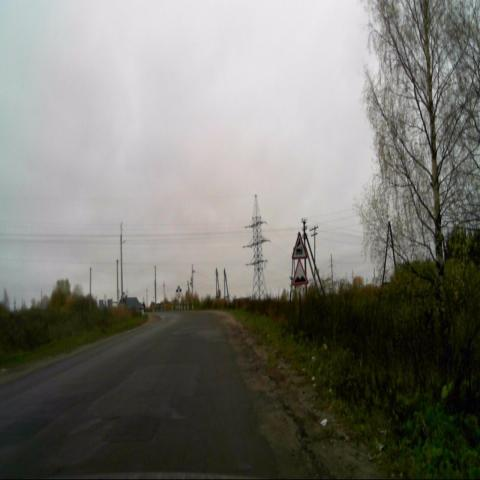1_16: (291, 258, 309, 286)
1_2: (291, 232, 308, 260)
